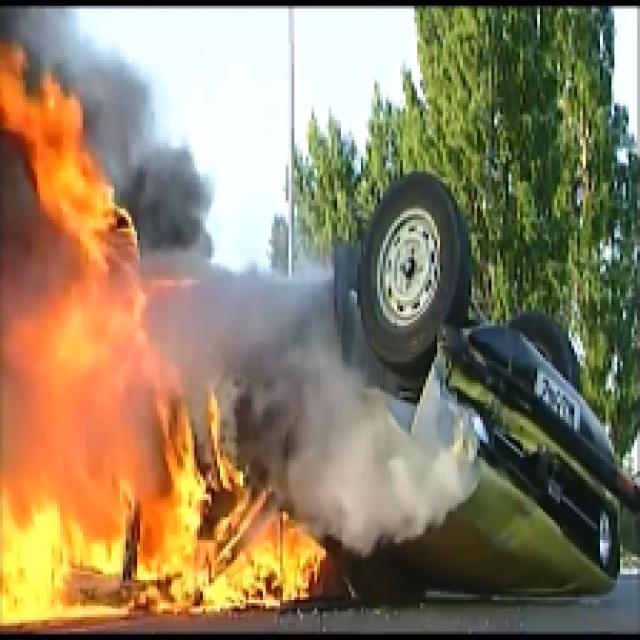fire: (4, 86, 99, 608), (117, 421, 259, 592)
smoke: (289, 396, 434, 527), (176, 280, 329, 380)
